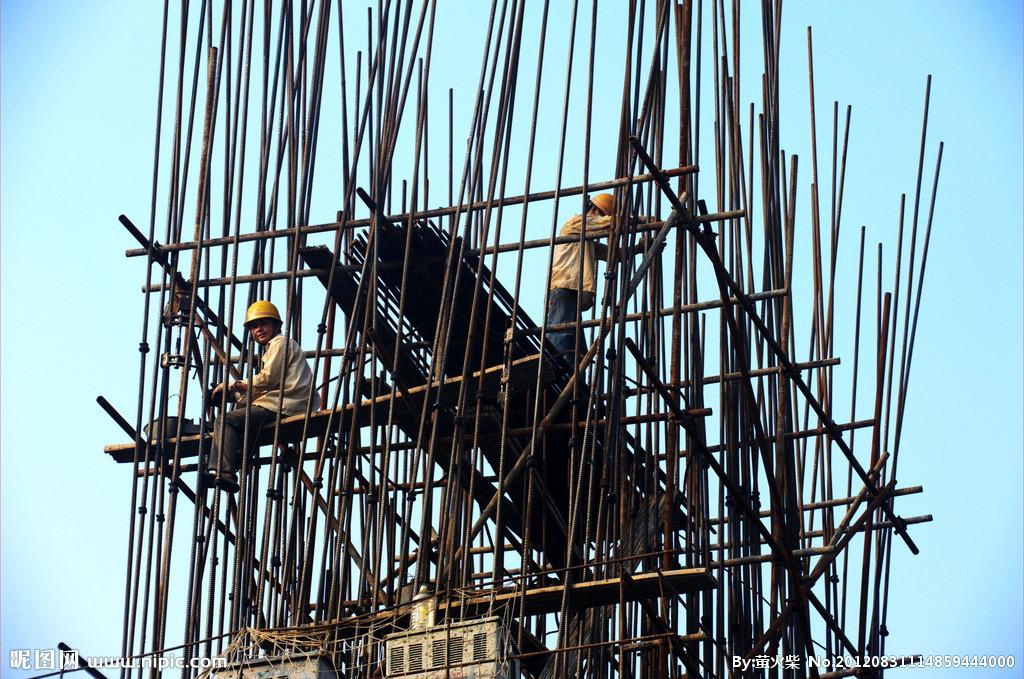helmet: (247, 300, 283, 326), (592, 191, 619, 216)
